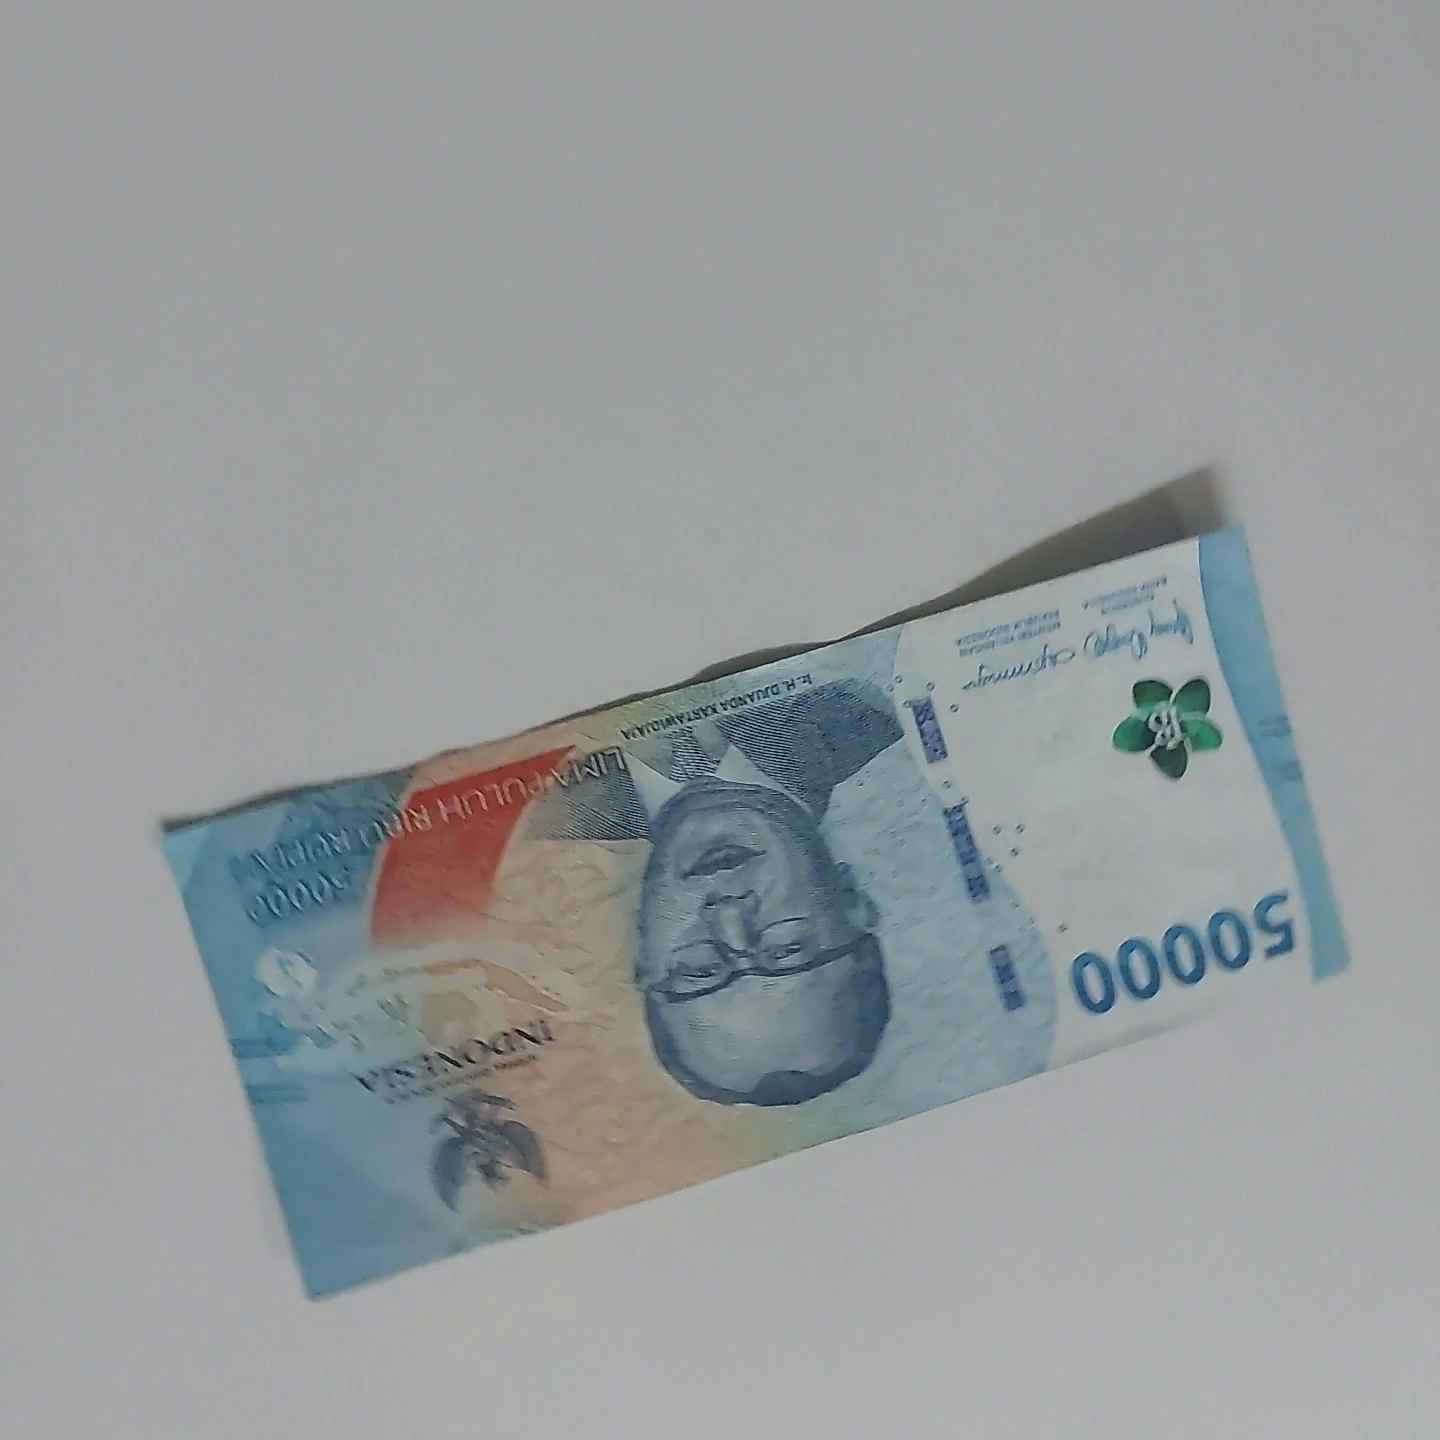50k: (170, 849, 1284, 1327)
